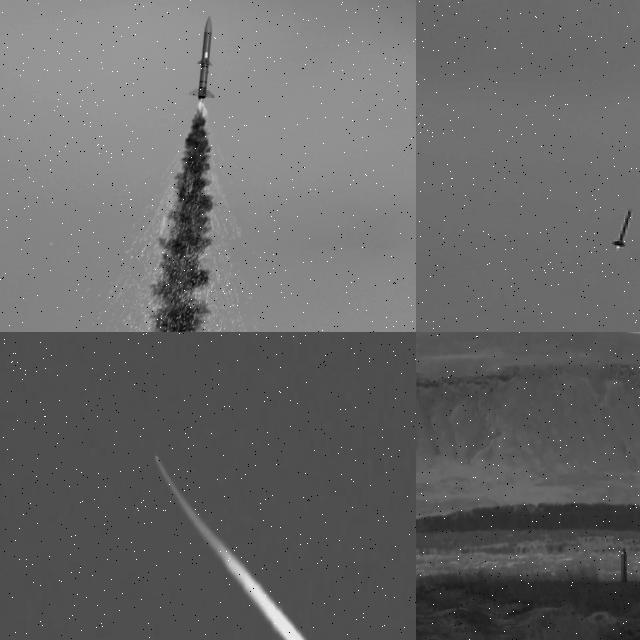Rocket: (188, 15, 216, 101), (611, 210, 633, 248), (155, 454, 160, 463)
